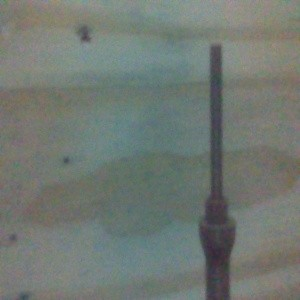obeng: (197, 43, 238, 300)
